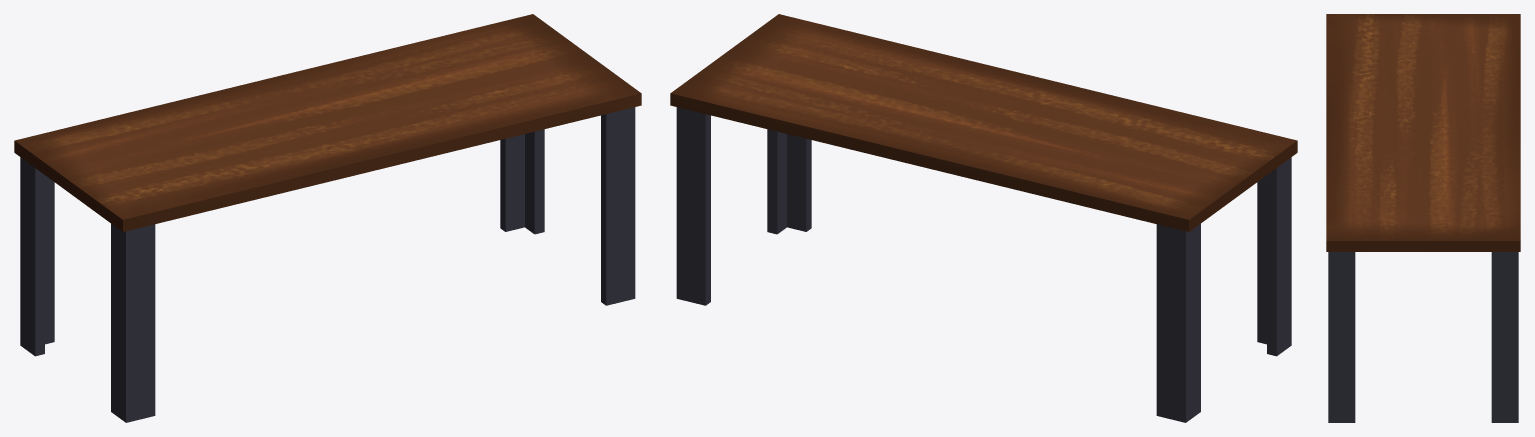
Rendered from IronChest_S.FBX.
The picture shows the model from 3 angles, left to right: view 1: azimuth 30°, elevation 25°; view 2: azimuth 150°, elevation 25°; view 3: azimuth 270°, elevation 25°; orthographic projection. The views are drawn at different scales.
Visible parts, largest first — view 1: IronChest_S; view 2: IronChest_S; view 3: IronChest_S.
Boxes of the visible parts, <box> form: IronChest_S: <box>14,14,641,422</box>; IronChest_S: <box>670,14,1297,422</box>; IronChest_S: <box>1326,14,1520,422</box>.
Bounding box in the file's own units: 151 × 56.95 × 54.57.
Materials: 1 (1 with a texture image).
